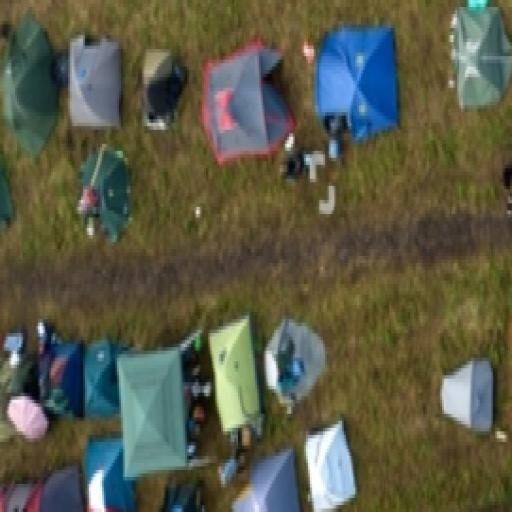tent: (315, 31, 405, 129)
